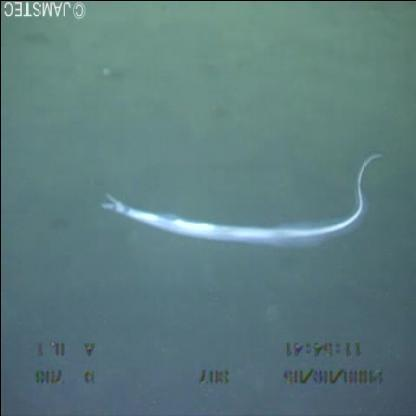Bio: (94, 132, 390, 252)
